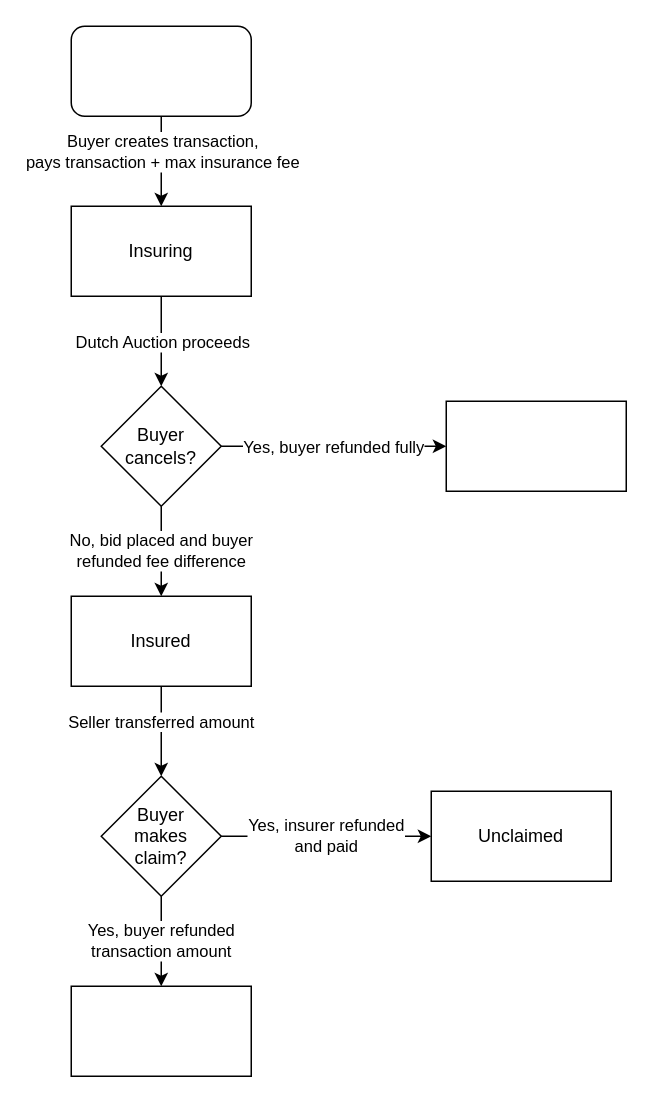
Image size: 654x1103. Some labels were removed from this diagram. Each missing label, with the centre of its shape:
"Cancelled" belongs at (535,445).
"Claimed" belongs at (160,1030).
"Start" belongs at (160,70).
